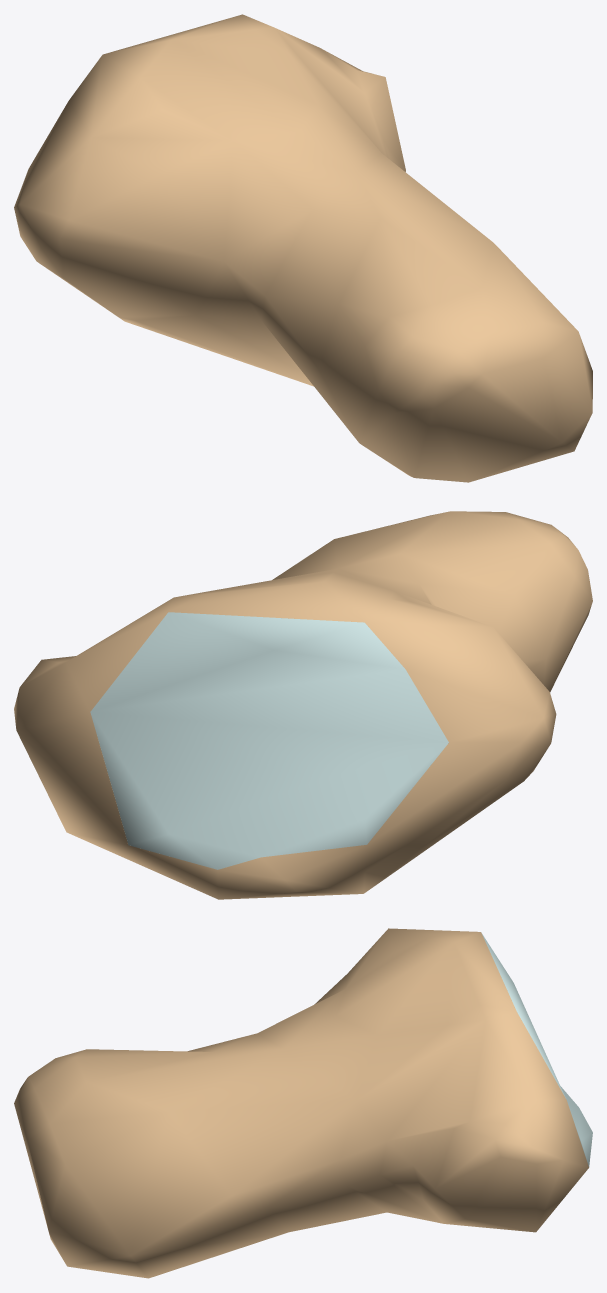
Rendered from Distal_phalanx_fifth_finger_foot_left.glb.
3 renders of one model, top to bottom at view 1: azimuth 30°, elevation 25°; view 2: azimuth 150°, elevation 25°; view 3: azimuth 270°, elevation 25°, orthographic. The views are drawn at different scales.
Visible parts, largest first — view 1: Distal_phalanx_of_5th_finger_of_foot.l_Generated_Mesh_From_X; view 2: Distal_phalanx_of_5th_finger_of_foot.l_Generated_Mesh_From_X; view 3: Distal_phalanx_of_5th_finger_of_foot.l_Generated_Mesh_From_X.
Part boxes in pixels (left/top/right/bottom): Distal_phalanx_of_5th_finger_of_foot.l_Generated_Mesh_From_X: left=14, top=14, right=592, bottom=482; Distal_phalanx_of_5th_finger_of_foot.l_Generated_Mesh_From_X: left=14, top=511, right=592, bottom=899; Distal_phalanx_of_5th_finger_of_foot.l_Generated_Mesh_From_X: left=14, top=928, right=592, bottom=1278.
Bounding box in the file's own units: 0.00789 × 0.00564 × 0.0109.
